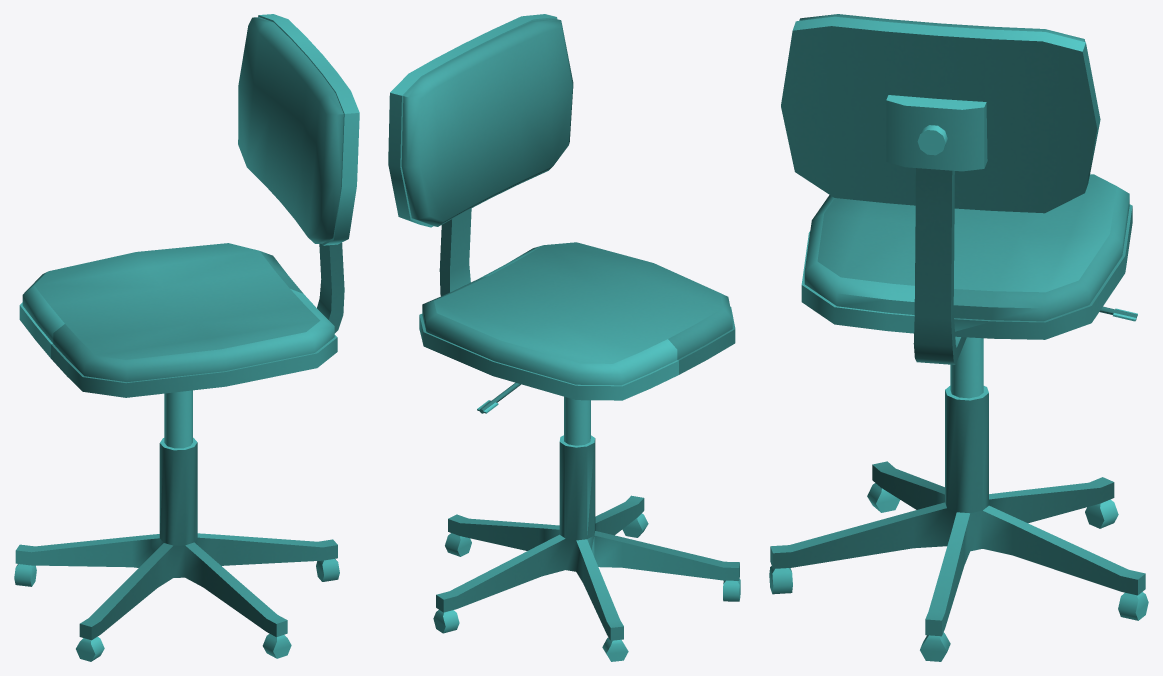
Rendered from chair_v3.glb.
3 views of the same model, side by side, from view 1: azimuth 30°, elevation 25°; view 2: azimuth 150°, elevation 25°; view 3: azimuth 270°, elevation 25° (orthographic). The views are drawn at different scales.
Parts seen in each view (by area): view 1: Chair; view 2: Chair; view 3: Chair.
Boxes of the visible parts, x1,y1,x2,y2 form: Chair: (14, 14, 359, 661); Chair: (388, 14, 740, 661); Chair: (769, 14, 1148, 661).
Bounding box in the file's own units: 1.21 × 2.12 × 1.17.
1 material, 1 textured.
